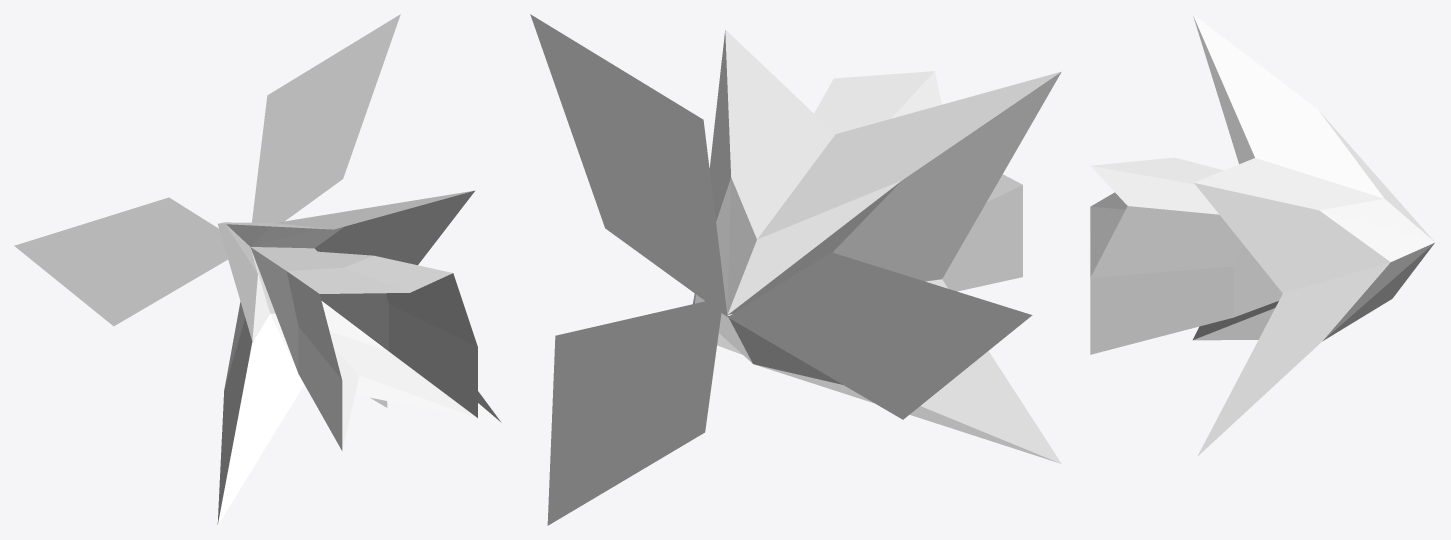
The model's file is Muzzle00.fbx.
3 renders of one model, left to right at view 1: azimuth 30°, elevation 25°; view 2: azimuth 150°, elevation 25°; view 3: azimuth 270°, elevation 25°, orthographic. The views are drawn at different scales.
Parts seen in each view (by area): view 1: Nuzzle1; view 2: Nuzzle1; view 3: Nuzzle1.
Boxes of the visible parts, bbox=[...] form: Nuzzle1: bbox=[14, 14, 501, 525]; Nuzzle1: bbox=[530, 14, 1061, 525]; Nuzzle1: bbox=[1090, 14, 1434, 456].
Size of the model in its own units: 2.31 by 2.23 by 1.66.
